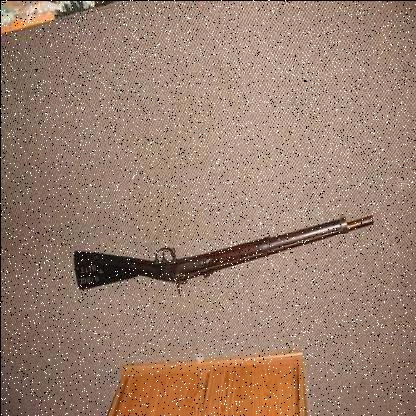rifle: (55, 176, 392, 302)
